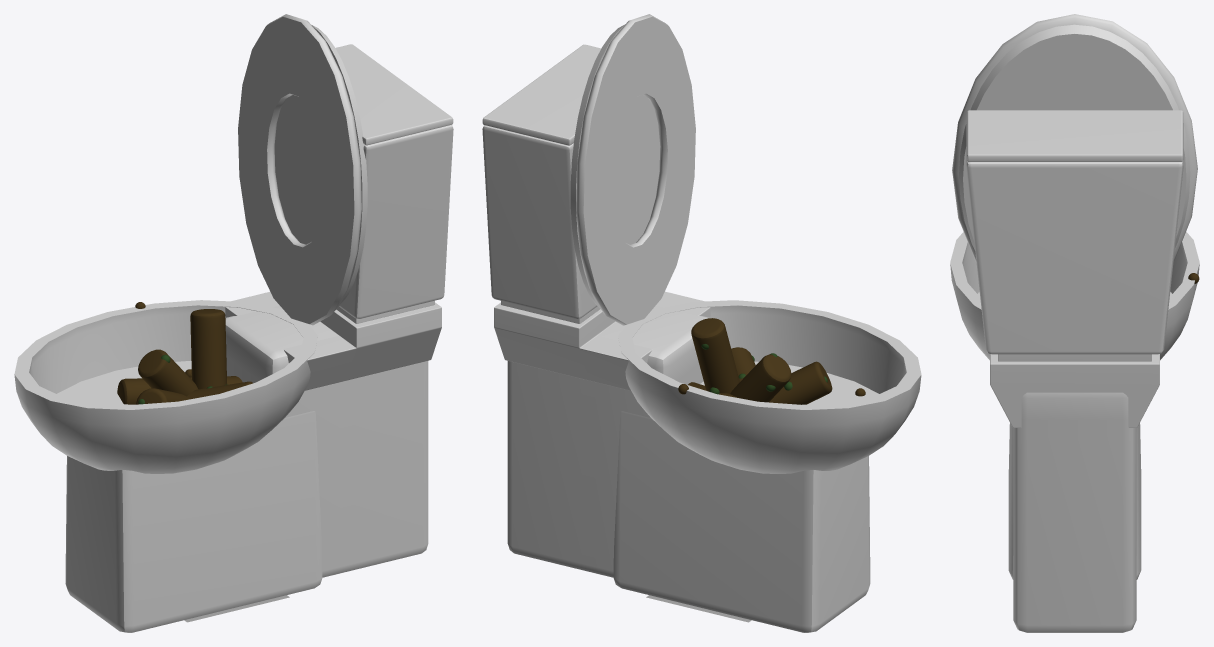
The model's file is toilet.fbx.
3 views of the same model, side by side, from view 1: azimuth 30°, elevation 25°; view 2: azimuth 150°, elevation 25°; view 3: azimuth 270°, elevation 25° (orthographic). The views are drawn at different scales.
Visible parts, largest first — view 1: polySurface414; view 2: polySurface414; view 3: polySurface414.
Part boxes in pixels (x1=…): polySurface414: x1=14, y1=14, x2=453, y2=632; polySurface414: x1=482, y1=14, x2=921, y2=632; polySurface414: x1=950, y1=14, x2=1199, y2=632.
Size of the model in its own units: 3.68 by 5.07 by 1.98.
